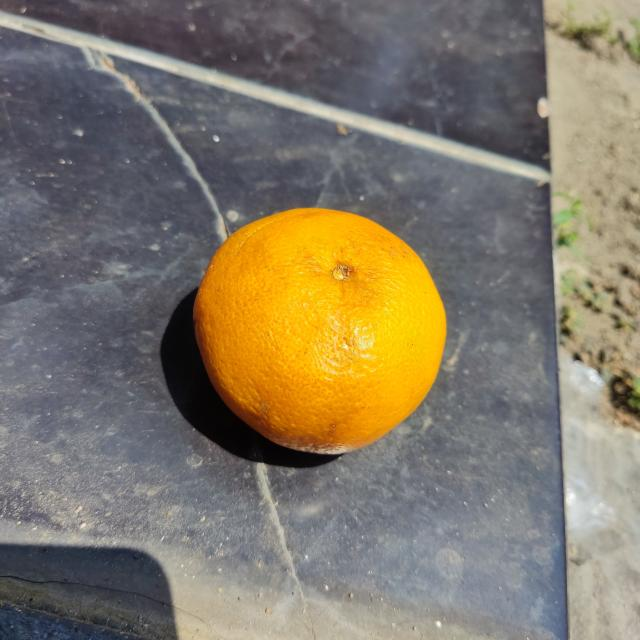orange: (192, 207, 449, 458)
